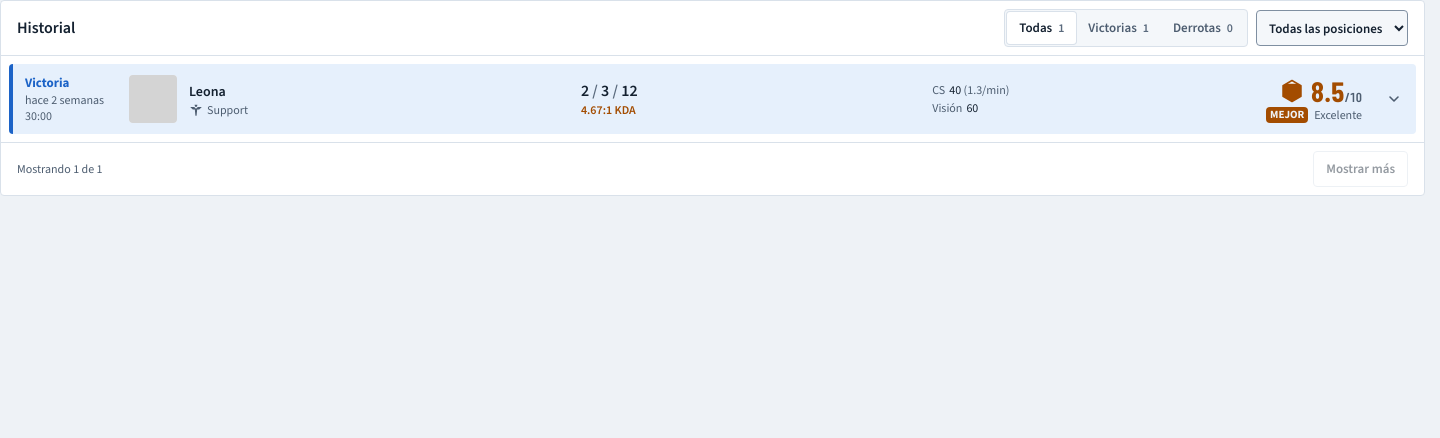
MatchList › pide el marcador a la API solo al abrirlo
Click the button named "ver marcador" at (1394, 99), box [1378,83,1410,115]
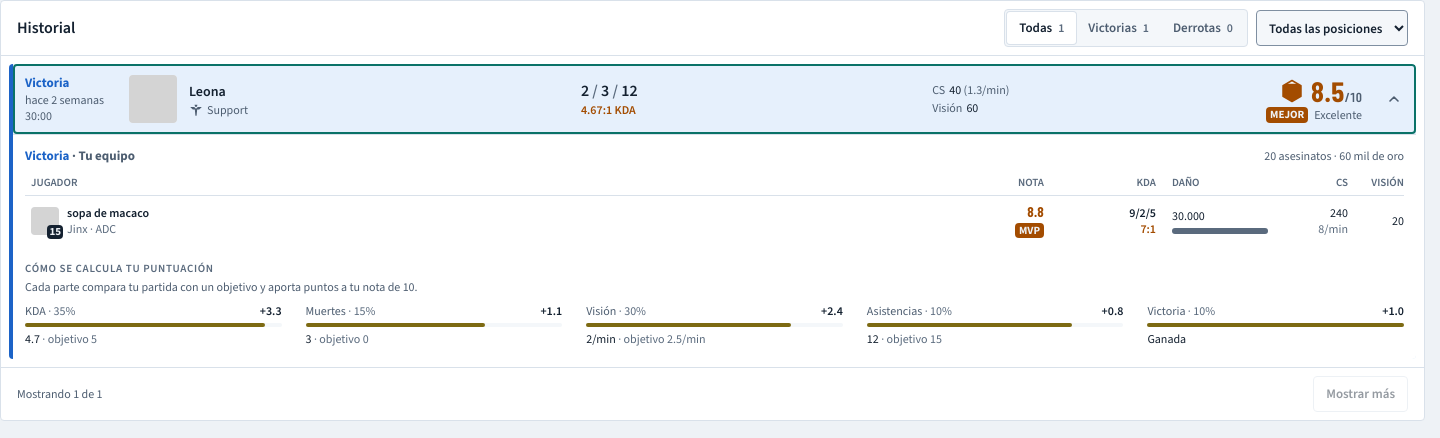
Check: the button named "ocultar marcador" is expanded, box [1378,83,1410,115]
